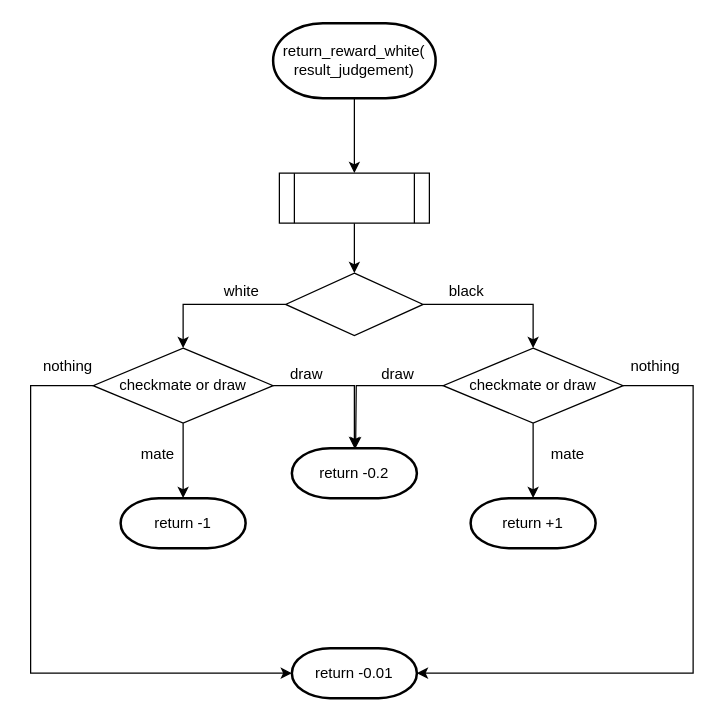
The diagram is 725 pixels wide and 720 high, and some of its shapes have lost their labels. Each missing label, with the box of its shape:
judgement_end: (278, 172, 429, 223)
white or black: (284, 272, 423, 336)
